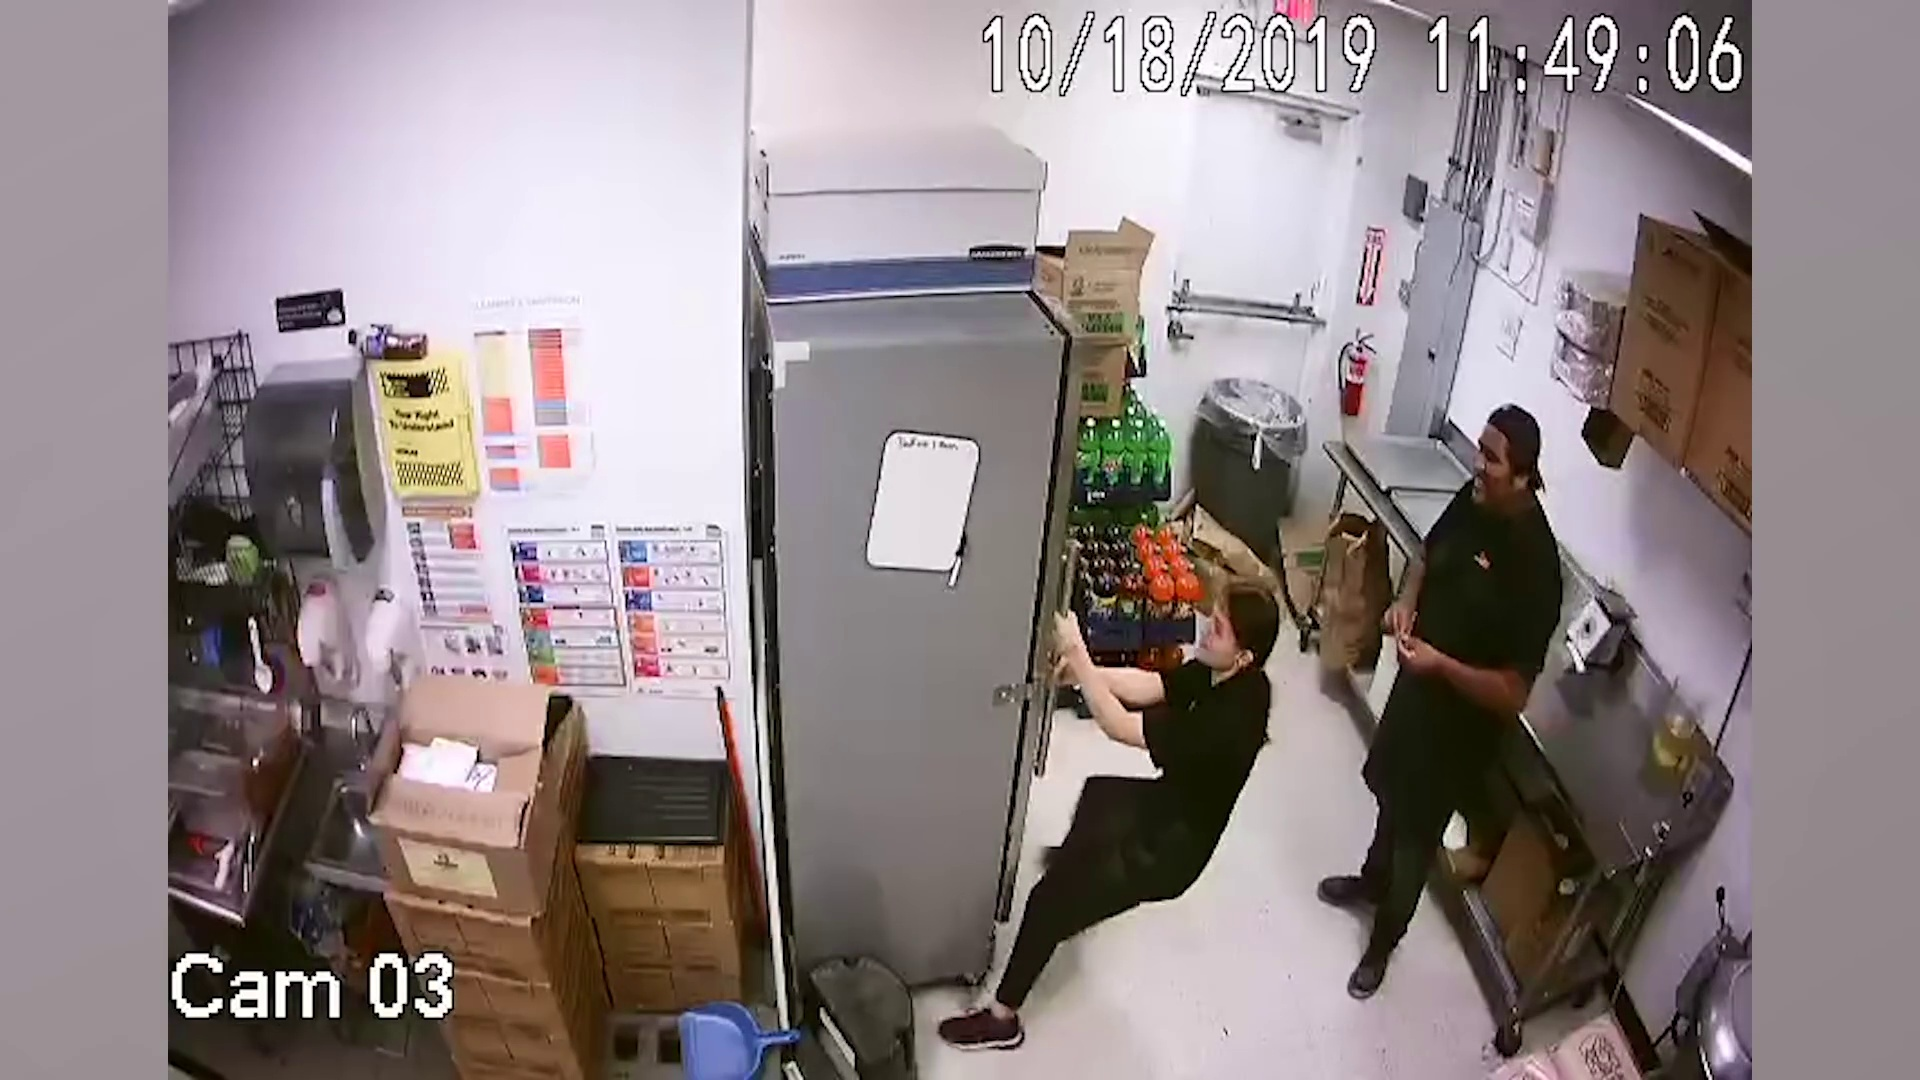face: (1469, 439, 1521, 506), (1194, 606, 1248, 667)
